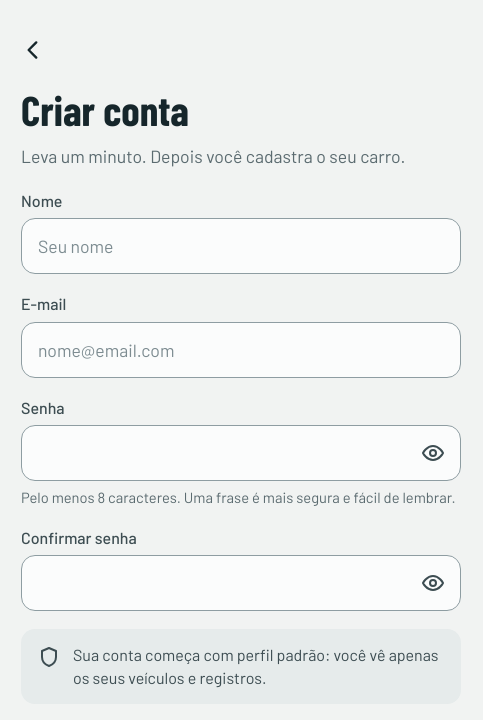
Test: Criar conta › avisa quando a confirmação é diferente
Type "Paula Bastos" into the field labelled "Nome" at (241, 246), box [21,218,461,274]
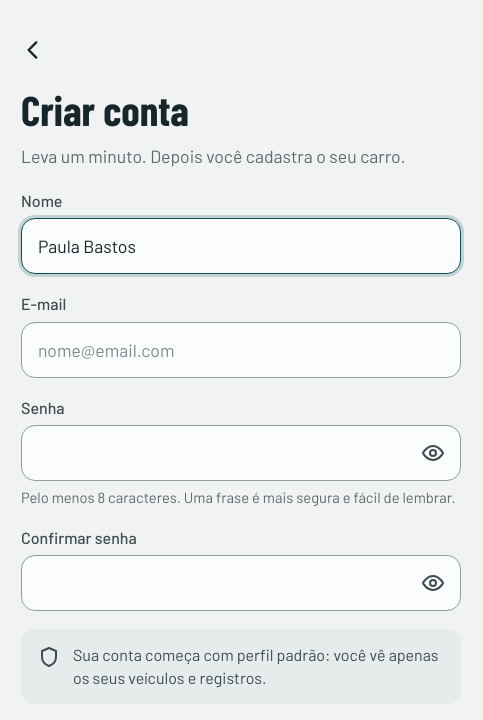
Type "paula@email.com" into the field labelled "E-mail" at (241, 350), box [21,322,461,378]
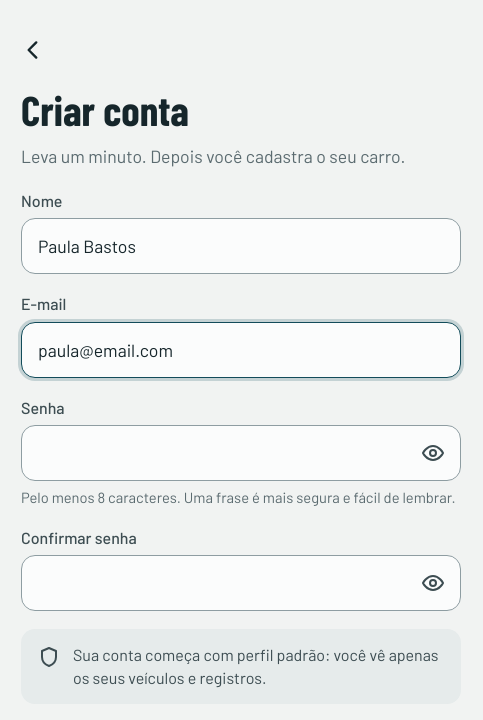
Type "meu carro azul 2020" into the password field labelled "Senha" at (241, 453), box [21,425,461,481]
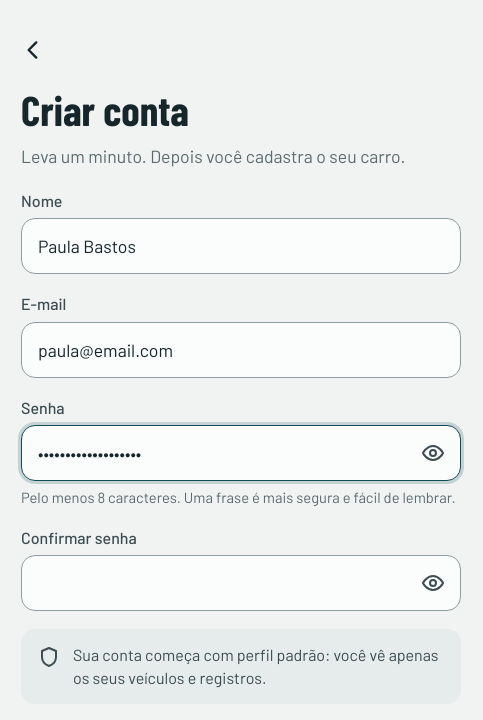
Type "outra coisa" into the password field labelled "Confirmar senha" at (241, 583), box [21,555,461,611]
(page scrolled)
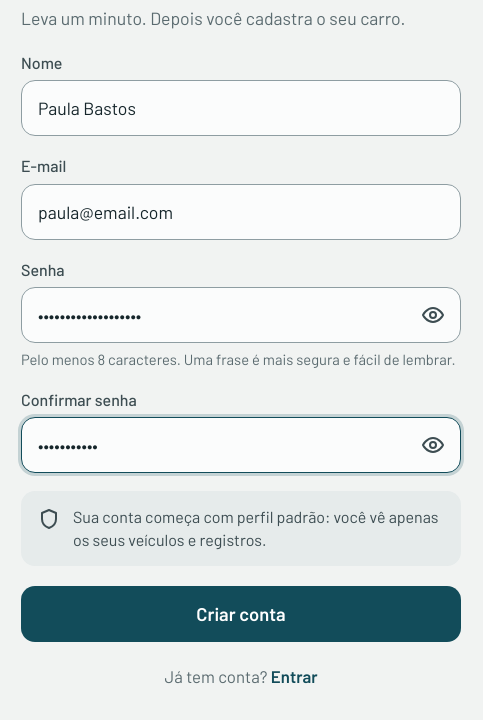
Click the button "Criar conta" at (241, 614), box [21,586,461,642]
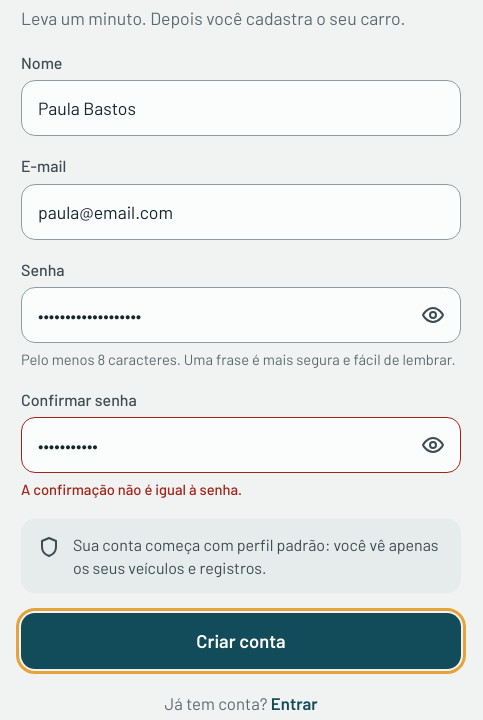
Result: the text "A confirmação não é igual à senha." is shown at [21,480,242,498]
